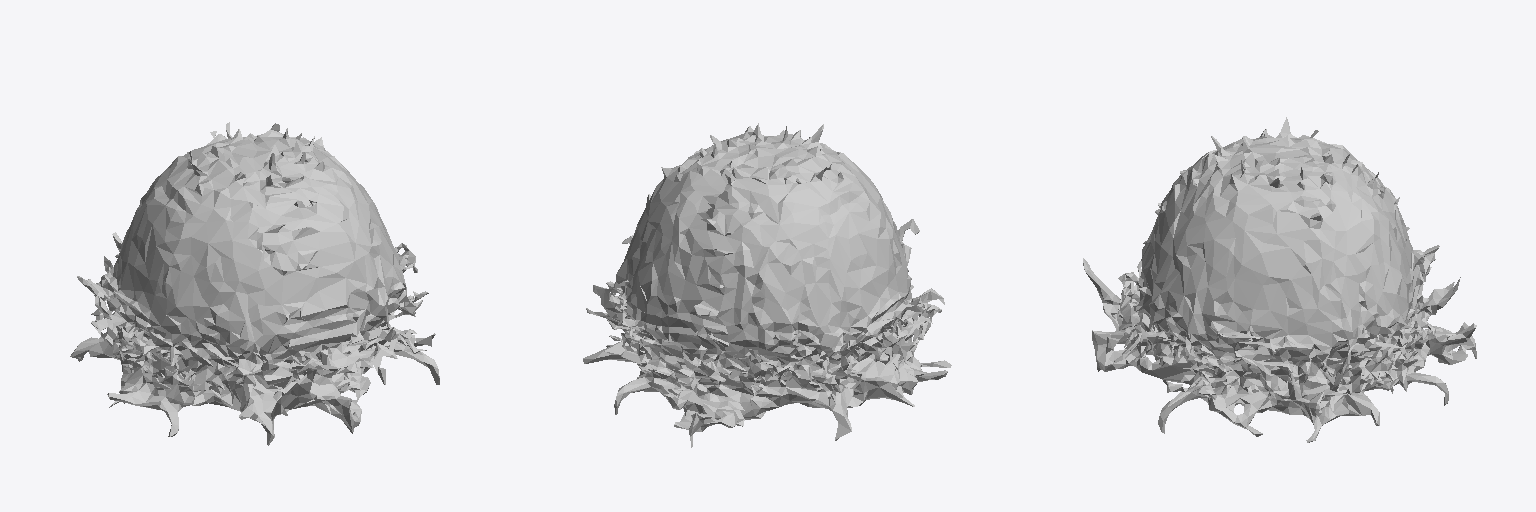
File: 035d5cc0e2ad_a_large_alien_shrub.obj
The picture shows the model from 3 angles: view 1: azimuth 30°, elevation 25°; view 2: azimuth 150°, elevation 25°; view 3: azimuth 270°, elevation 25°; orthographic projection.
Visible parts, largest first — view 1: mesh; view 2: mesh; view 3: mesh.
Part boxes in pixels (bbox=[...]): mesh: bbox=[70, 122, 439, 445]; mesh: bbox=[583, 123, 951, 447]; mesh: bbox=[1083, 117, 1476, 442].
Bounding box in the file's own units: 0.9549 × 0.6532 × 0.9986.